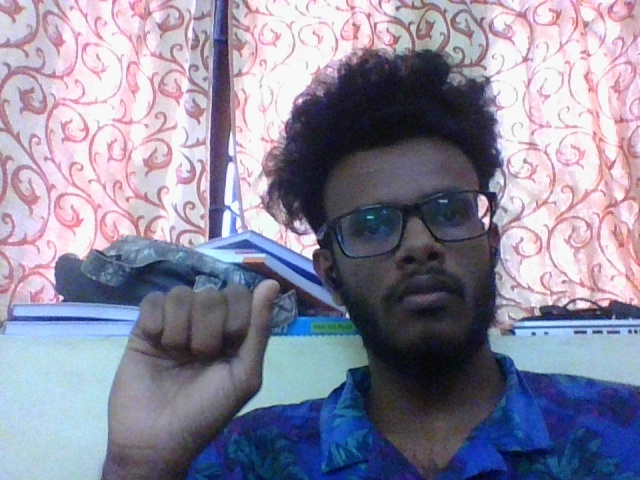yes: (87, 271, 299, 480)
